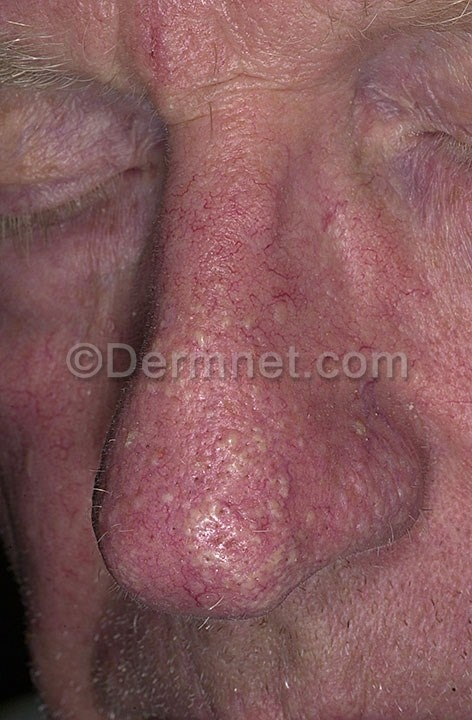Melasma: (98, 3, 472, 717), (0, 123, 205, 720)
